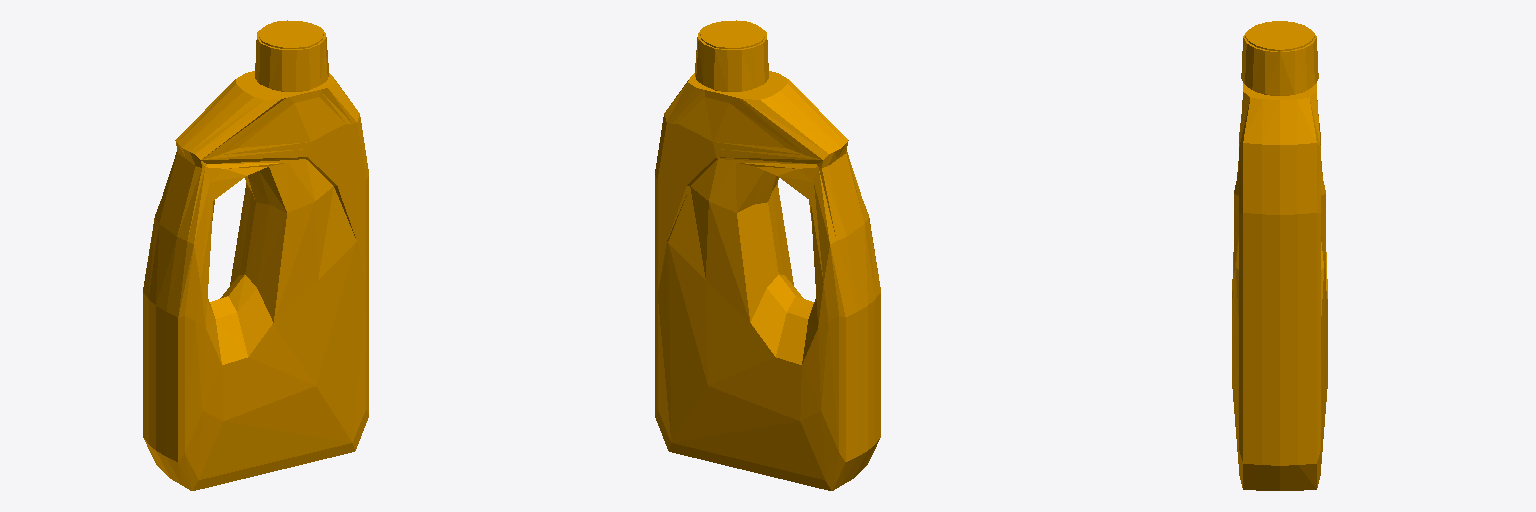
URDF robot description (cascadeScaled.off):
<?xml version="1.0"?>
<robot name="cascadeScaled.off">
	<link name="cascadeScaled.off">
		<inertial>
			<!--origin xyz="0 0 0" rpy="0 0 0" /-->
			<mass value="0.5" />
			<!--inertia ixx="0.000360" ixy="0" ixz="0" iyy="0.0000615" iyz="0" izz="0.00036" /-->
		</inertial>
    		<visual>
	      		<!--origin rpy="0 0 0" xyz="0 0 0"/-->
      			<geometry>
        			<mesh filename="cascadeScaled.off.obj"/>
      			</geometry>
         	</visual>
    		<collision>
      			<!--origin rpy="0 0 0" xyz="0 0 0"/-->
      			<geometry>
        			<mesh filename="cascadeScaled.off.obj"/>
      			</geometry>
    		</collision>
	</link>
</robot>

--- What the picture shows (computed from the rendered views, not written in the file) ---
The picture shows the robot from 3 angles, left to right: view 1: azimuth 30°, elevation 25°; view 2: azimuth 150°, elevation 25°; view 3: azimuth 270°, elevation 25°; orthographic projection.
Robot: cascadeScaled.off — 1 links, 0 joints (none); root link cascadeScaled.off; default pose: every joint at zero.
Visible links, largest first — view 1: cascadeScaled.off; view 2: cascadeScaled.off; view 3: cascadeScaled.off.
Boxes of the visible links, left/top/right/bottom form: cascadeScaled.off: left=143, top=20, right=368, bottom=490; cascadeScaled.off: left=655, top=20, right=880, bottom=490; cascadeScaled.off: left=1232, top=21, right=1327, bottom=490.
Bounding box of the posed robot: 0.13 × 0.052 × 0.258 m (x, y, z).
1 mesh visuals loaded from 1 distinct referenced files (1 OBJ).